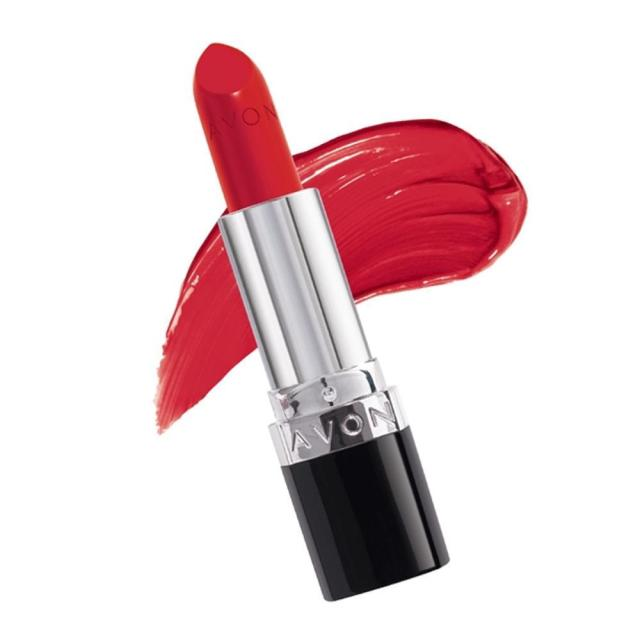lipstick: (171, 18, 454, 600)
